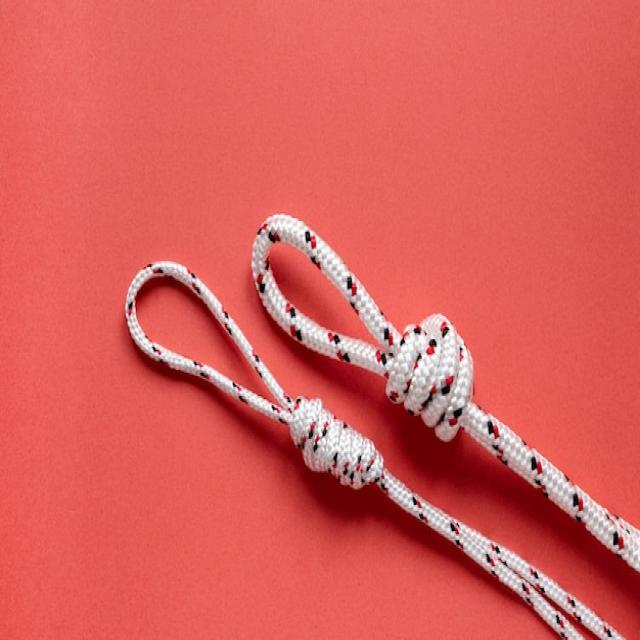Rope: (113, 211, 639, 640)
